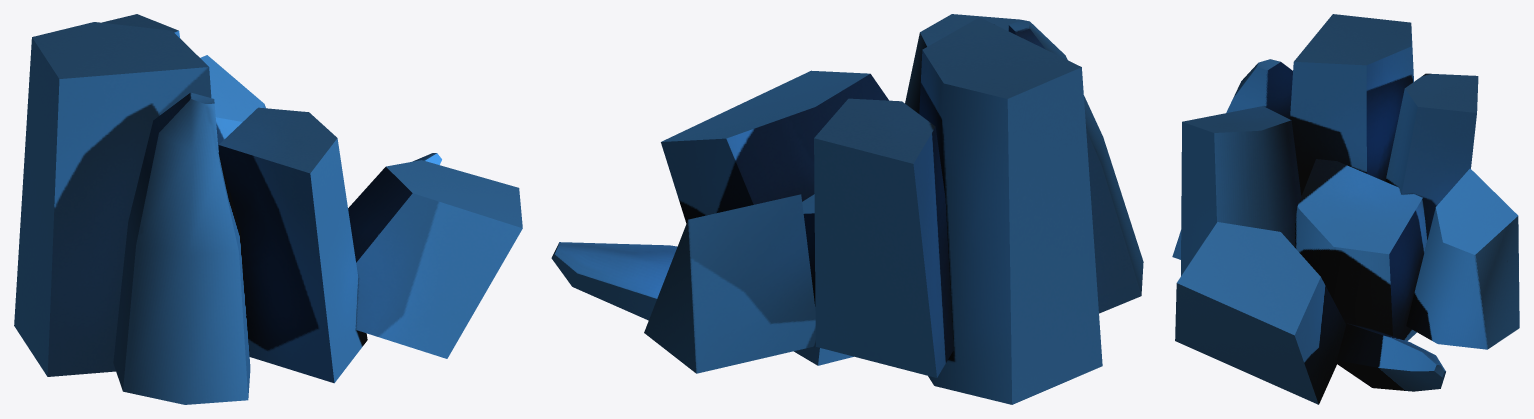
Rendered from rocks_broken.obj.
3 renders of one model, left to right at view 1: azimuth 30°, elevation 25°; view 2: azimuth 150°, elevation 25°; view 3: azimuth 270°, elevation 25°, orthographic. The views are drawn at different scales.
Visible parts, largest first — view 1: rocksBroken; view 2: rocksBroken; view 3: rocksBroken.
Boxes of the visible parts, box(x1,y1,x2,y2) form: rocksBroken: box(14, 14, 522, 404); rocksBroken: box(551, 14, 1143, 404); rocksBroken: box(1172, 14, 1519, 404).
Size of the model in its own units: 25.42 by 17.48 by 21.01.
1 material, 1 textured.
